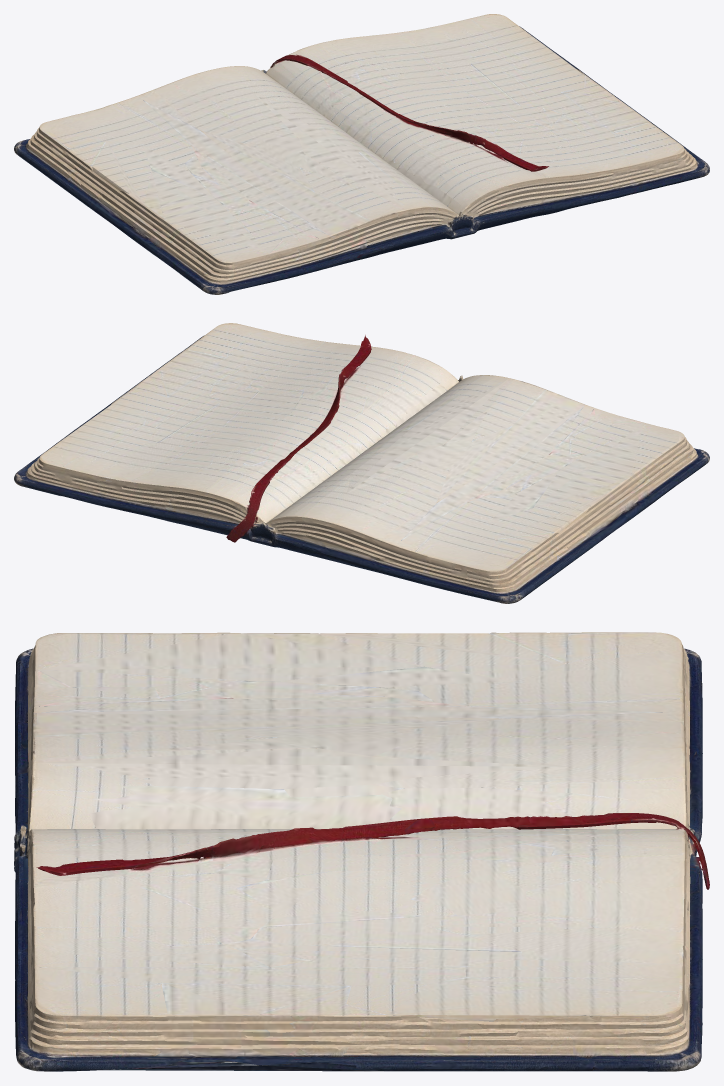
Rendered from e4notebook.glb.
3 renders of one model, top to bottom at view 1: azimuth 30°, elevation 25°; view 2: azimuth 150°, elevation 25°; view 3: azimuth 270°, elevation 25°, orthographic. The views are drawn at different scales.
Visible parts, largest first — view 1: output_unwrapped; view 2: output_unwrapped; view 3: output_unwrapped.
Boxes of the visible parts, box(x1,y1,x2,y2) form: output_unwrapped: box(14, 14, 709, 294); output_unwrapped: box(14, 323, 709, 603); output_unwrapped: box(14, 632, 709, 1071).
Bounding box in the file's own units: 0.46 × 0.0395 × 0.3246.
Materials: 1 (1 with a texture image).
